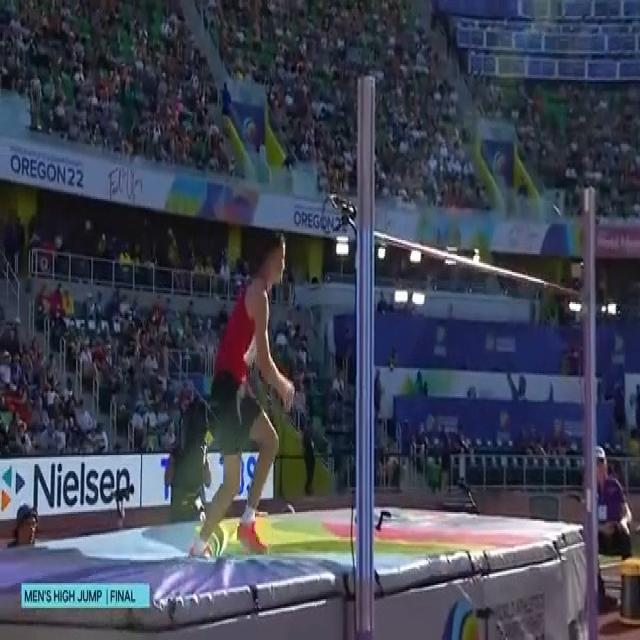land: (188, 226, 298, 568)
